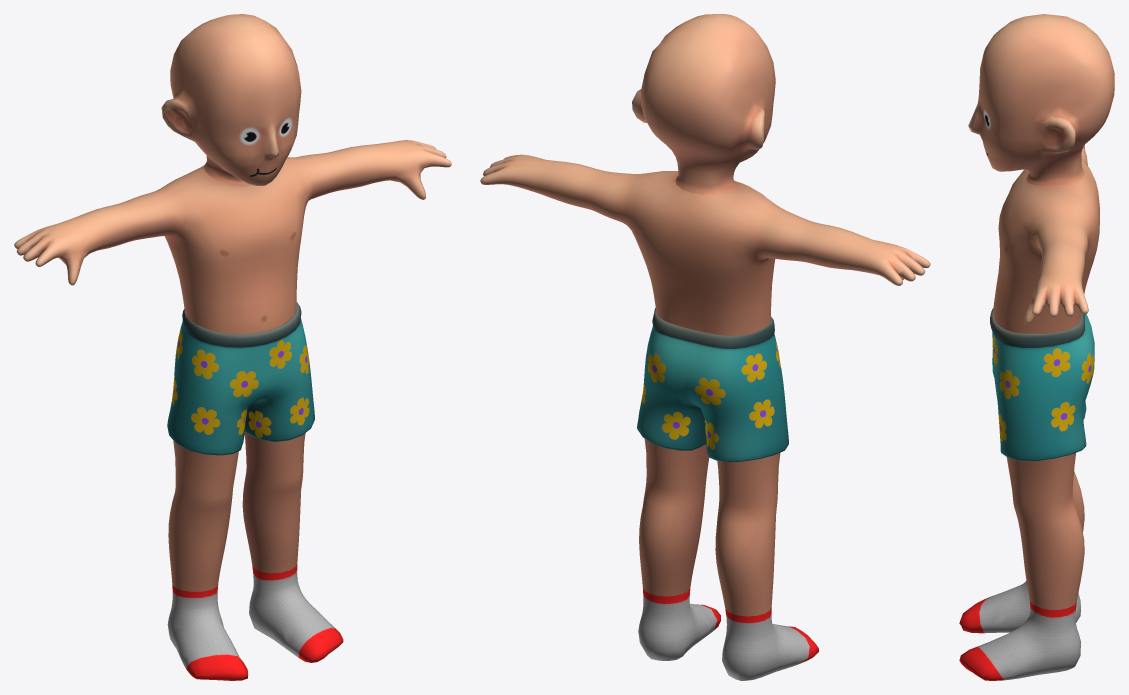
File: character-last.fbx
The picture shows the model from 3 angles, left to right: view 1: azimuth 30°, elevation 25°; view 2: azimuth 150°, elevation 25°; view 3: azimuth 270°, elevation 25°; orthographic projection. The views are drawn at different scales.
Visible parts, largest first — view 1: body, head, short, leg, foot; view 2: body, head, short, leg, foot; view 3: head, body, short, leg, foot.
Part boxes in pixels (x1,y1,x2,y2): body: [14, 140, 451, 334]; head: [161, 14, 301, 185]; short: [167, 302, 314, 455]; leg: [168, 432, 305, 591]; foot: [167, 563, 343, 680]; body: [480, 154, 930, 335]; head: [632, 14, 775, 194]; short: [637, 308, 788, 462]; leg: [639, 439, 780, 616]; foot: [638, 588, 818, 680]; head: [968, 14, 1114, 185]; body: [993, 145, 1099, 333]; short: [990, 308, 1094, 461]; leg: [1006, 453, 1084, 609]; foot: [959, 581, 1080, 680].
Size of the model in its own units: 1.3 by 1.83 by 0.4092.
